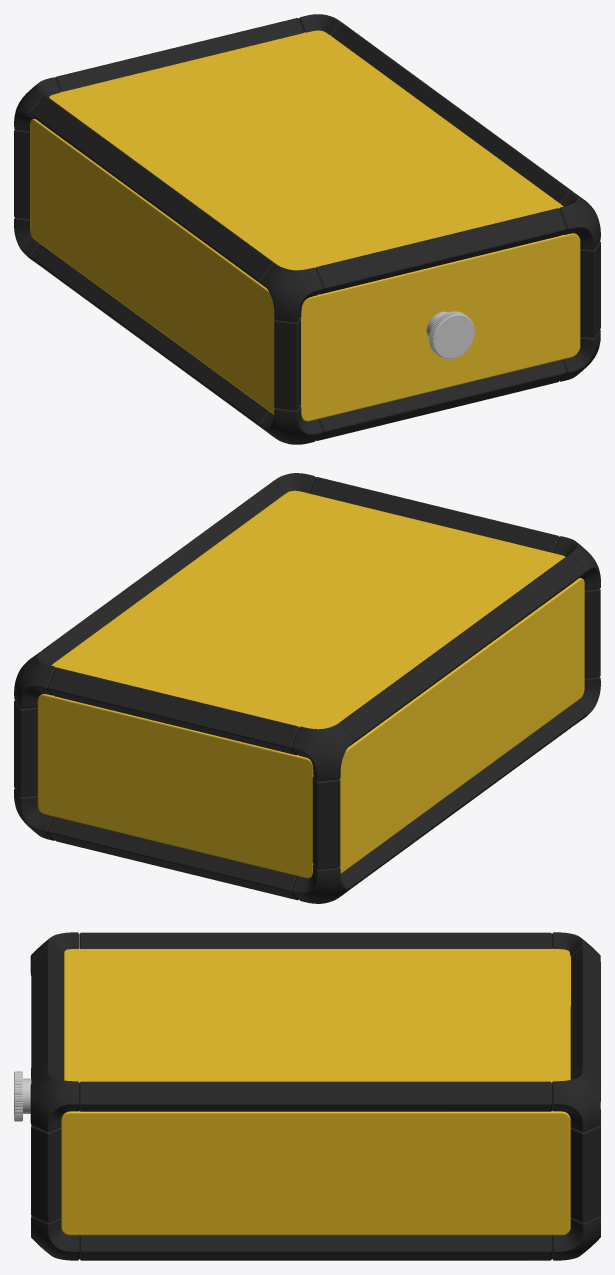
The picture shows the model from 3 angles, top to bottom: view 1: azimuth 30°, elevation 25°; view 2: azimuth 150°, elevation 25°; view 3: azimuth 270°, elevation 25°; orthographic projection. The views are drawn at different scales.
Parts seen in each view (by area): view 1: 229x374x79; view 2: 229x374x79; view 3: 229x374x79.
Part boxes in pixels (x1,y1,x2,y2): 229x374x79: [14, 14, 600, 444]; 229x374x79: [14, 473, 600, 903]; 229x374x79: [14, 932, 600, 1260].
Size of the model in its own units: 0.3067 by 0.1566 by 0.4646.
